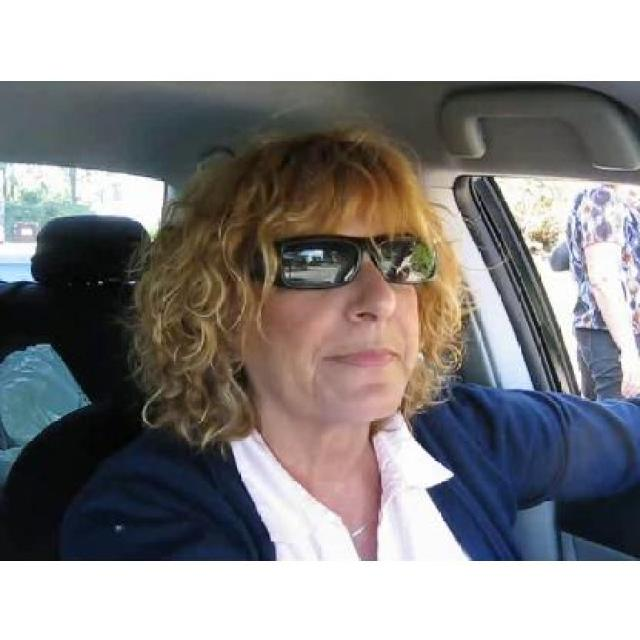attentif: (234, 130, 434, 421)
